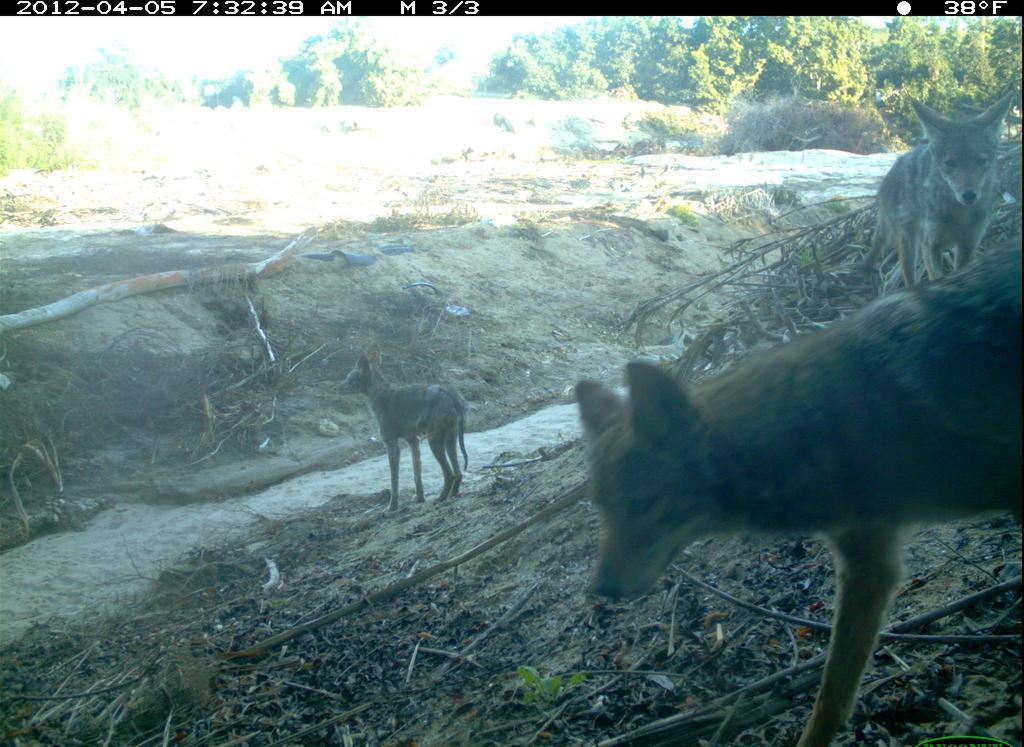coyote: (570, 254, 1017, 745), (865, 93, 1019, 280), (332, 342, 475, 509)
